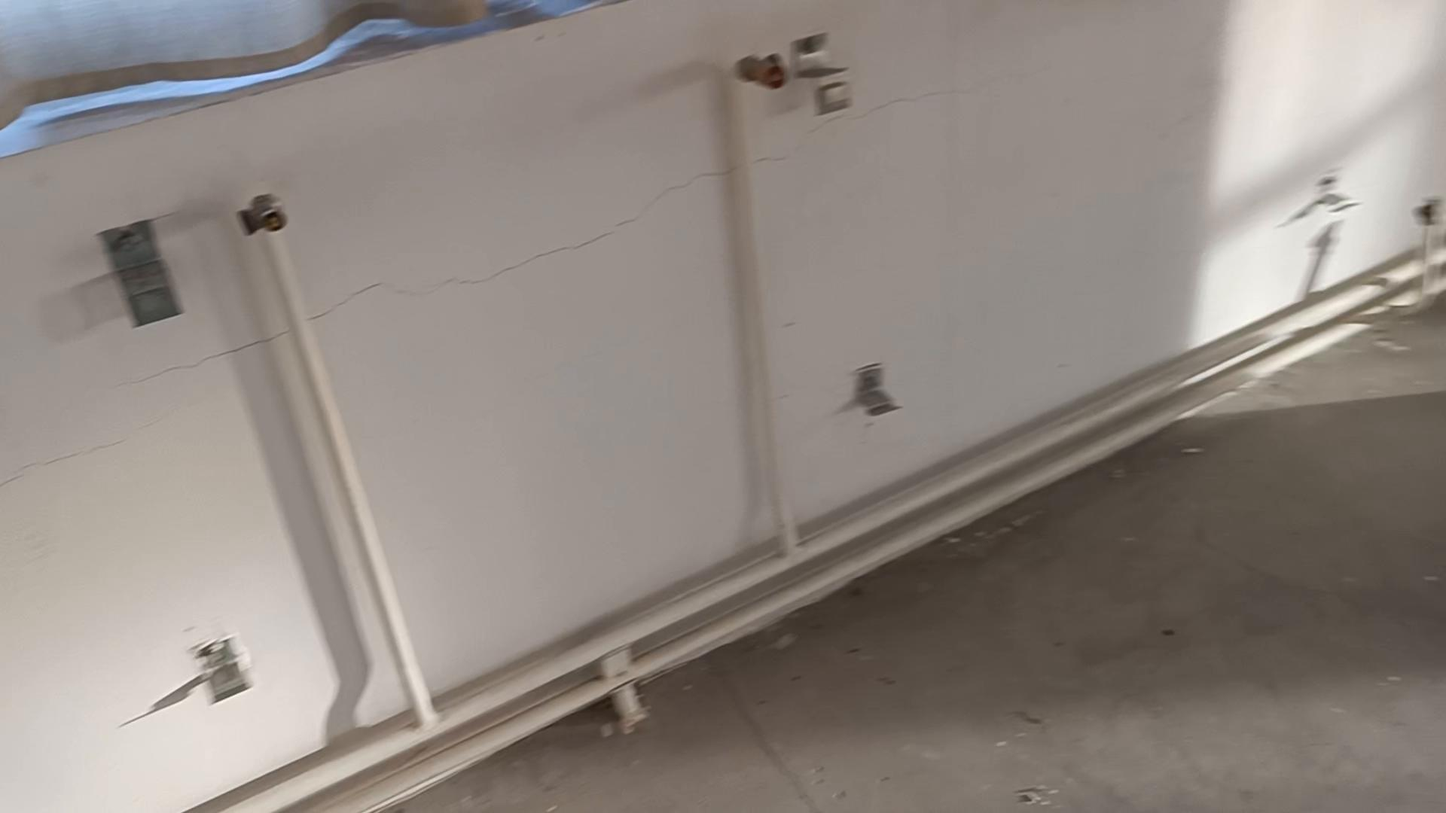floor: (389, 297, 1445, 812)
wall: (3, 0, 1439, 812)
